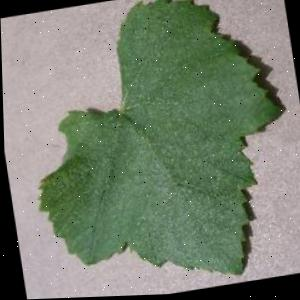Folha: (7, 0, 300, 300)
